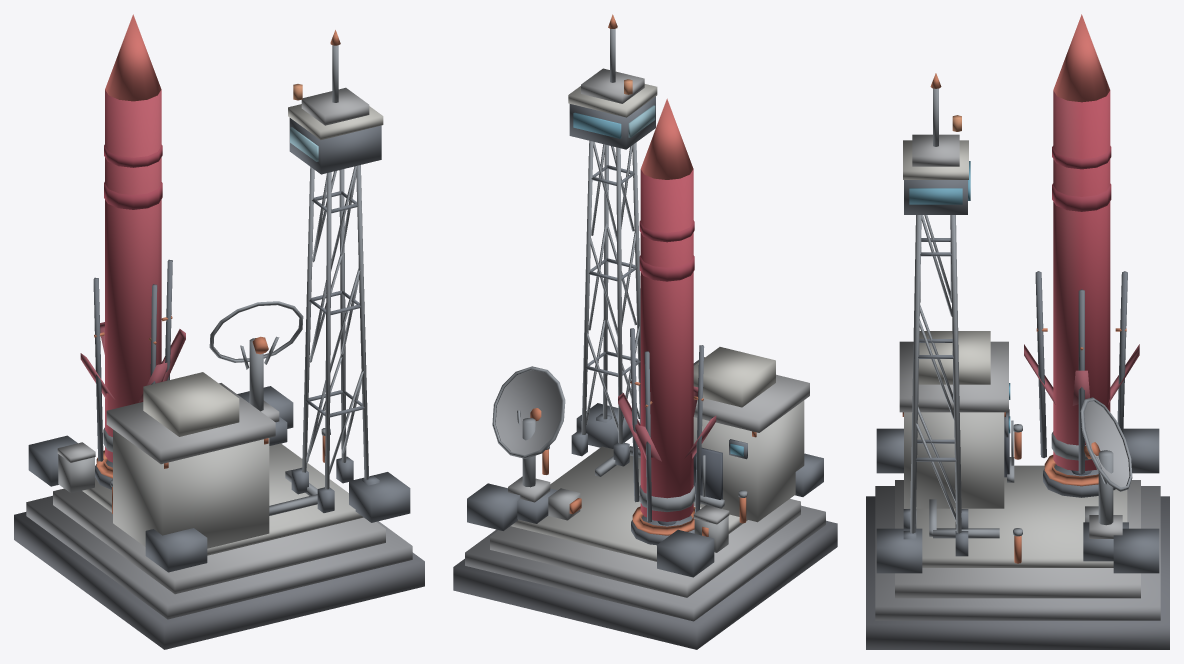
Rendered from rocket.glb.
3 views of the same model, side by side, from view 1: azimuth 30°, elevation 25°; view 2: azimuth 150°, elevation 25°; view 3: azimuth 270°, elevation 25° (orthographic). The views are drawn at different scales.
Parts seen in each view (by area): view 1: world; view 2: world; view 3: world.
Boxes of the visible parts, x1,y1,x2,y2 form: world: [14, 14, 424, 649]; world: [453, 14, 837, 649]; world: [866, 14, 1169, 649].
Size of the model in its own units: 0.5 by 1 by 0.5.
